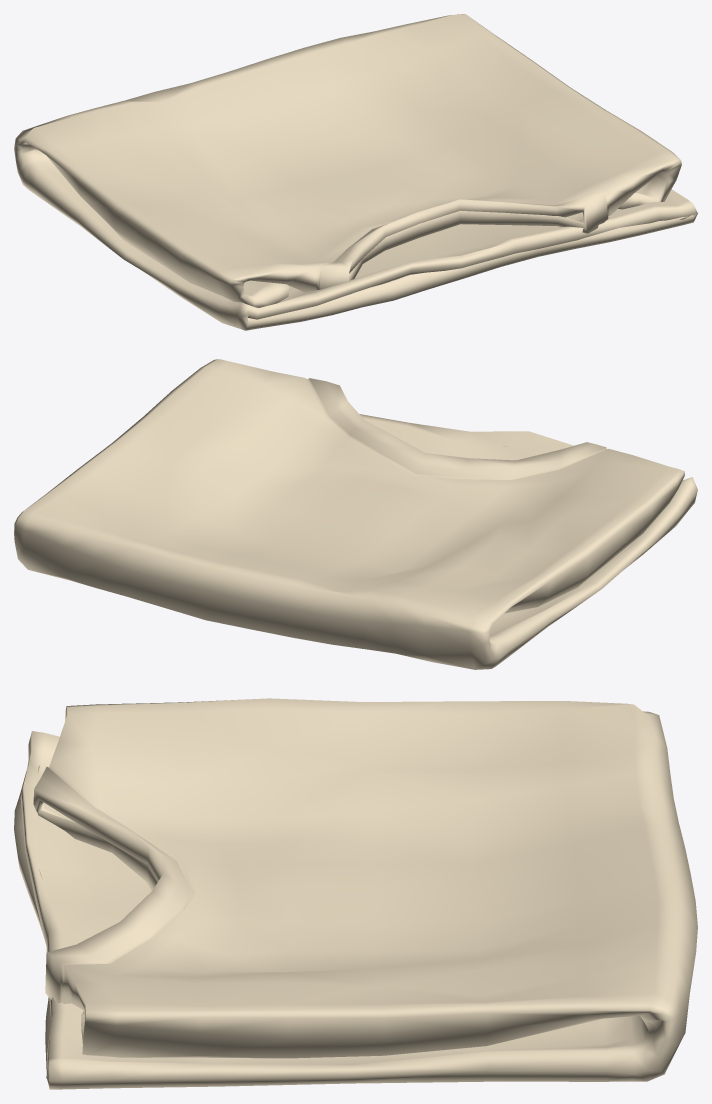
File: Folded_T_Shirt33.fbx
3 renders of one model, top to bottom at view 1: azimuth 30°, elevation 25°; view 2: azimuth 150°, elevation 25°; view 3: azimuth 270°, elevation 25°, orthographic. The views are drawn at different scales.
Visible parts, largest first — view 1: Folded_T_Shirt33; view 2: Folded_T_Shirt33; view 3: Folded_T_Shirt33.
Part boxes in pixels (bbox=[...]): Folded_T_Shirt33: bbox=[14, 14, 697, 330]; Folded_T_Shirt33: bbox=[14, 359, 697, 669]; Folded_T_Shirt33: bbox=[14, 698, 697, 1089].
Size of the model in its own units: 36.95 by 4.2 by 32.8.
Materials: 1 (1 with a texture image).
